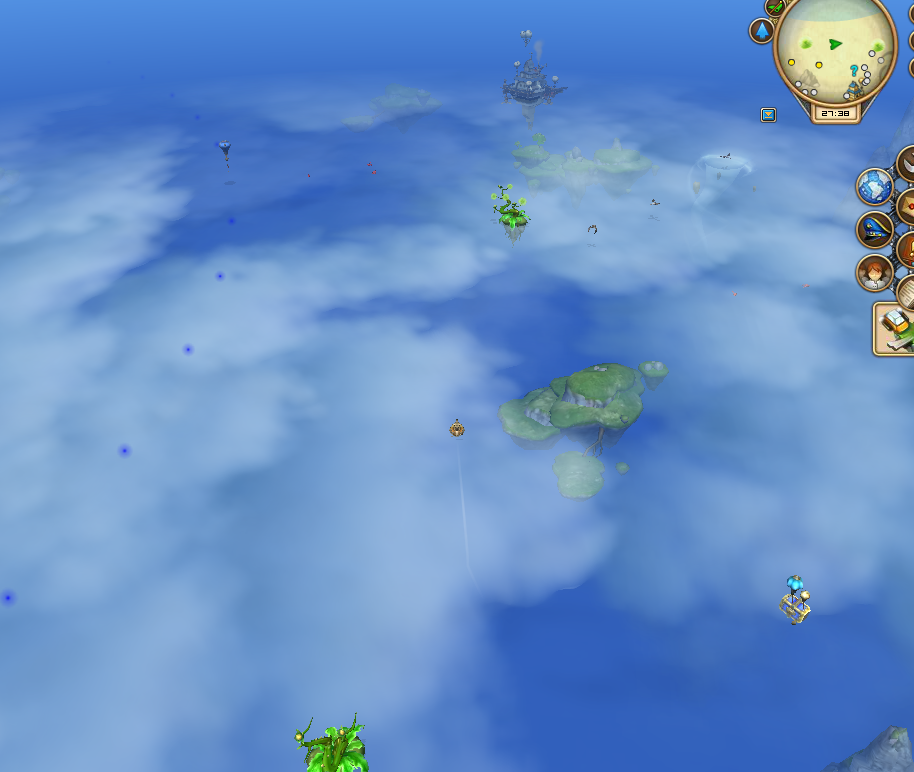dandelion-empty: (288, 700, 377, 772)
dandelion-full: (489, 179, 532, 233)
